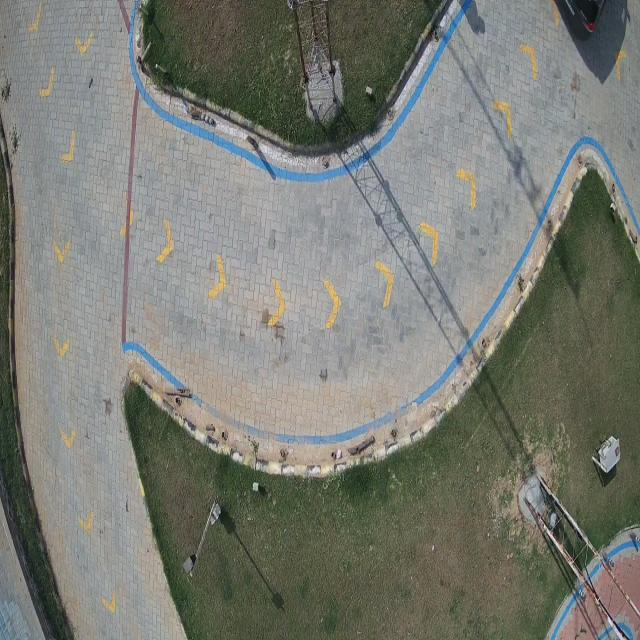car: (558, 3, 621, 44)
